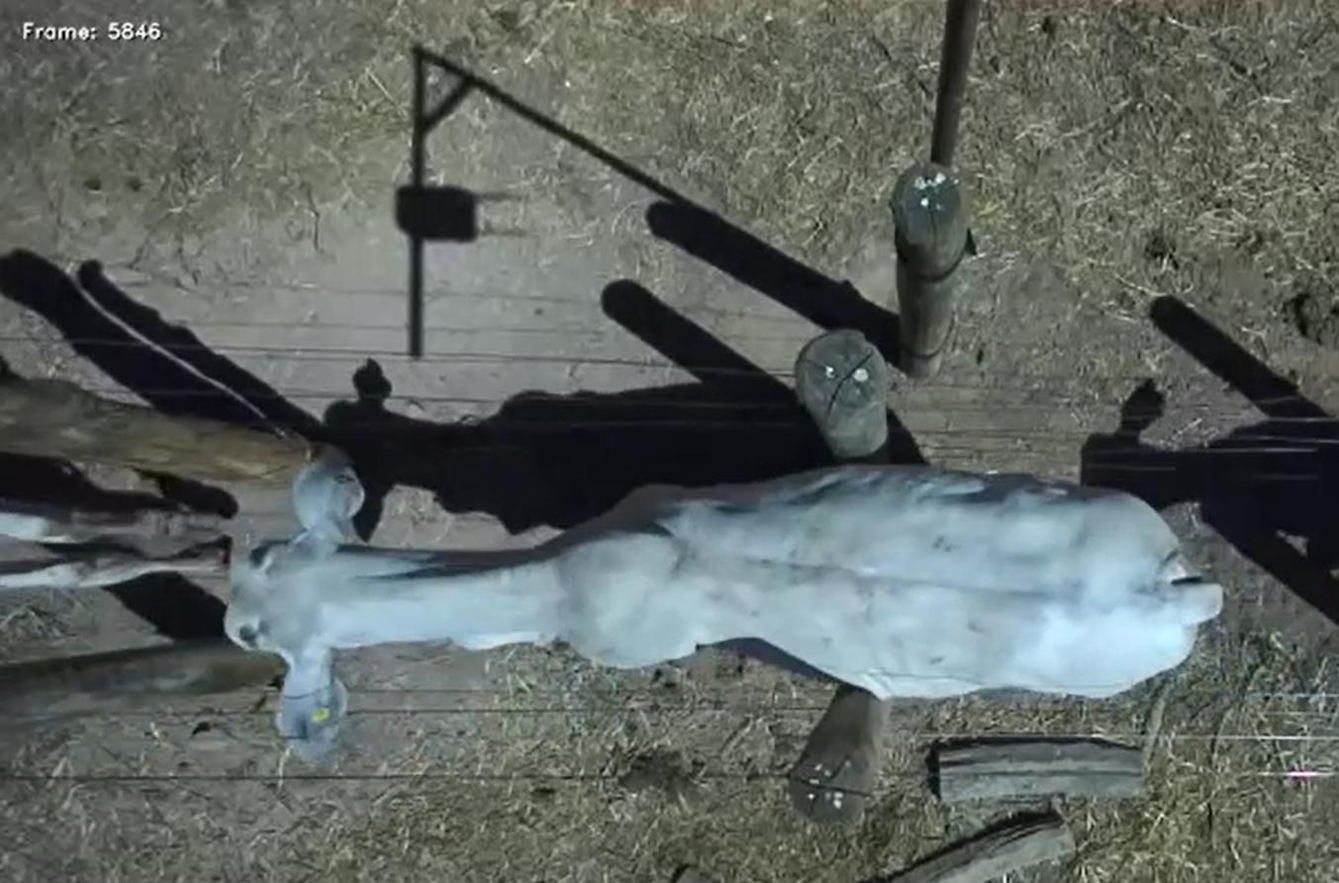cattle: (218, 432, 1237, 780)
